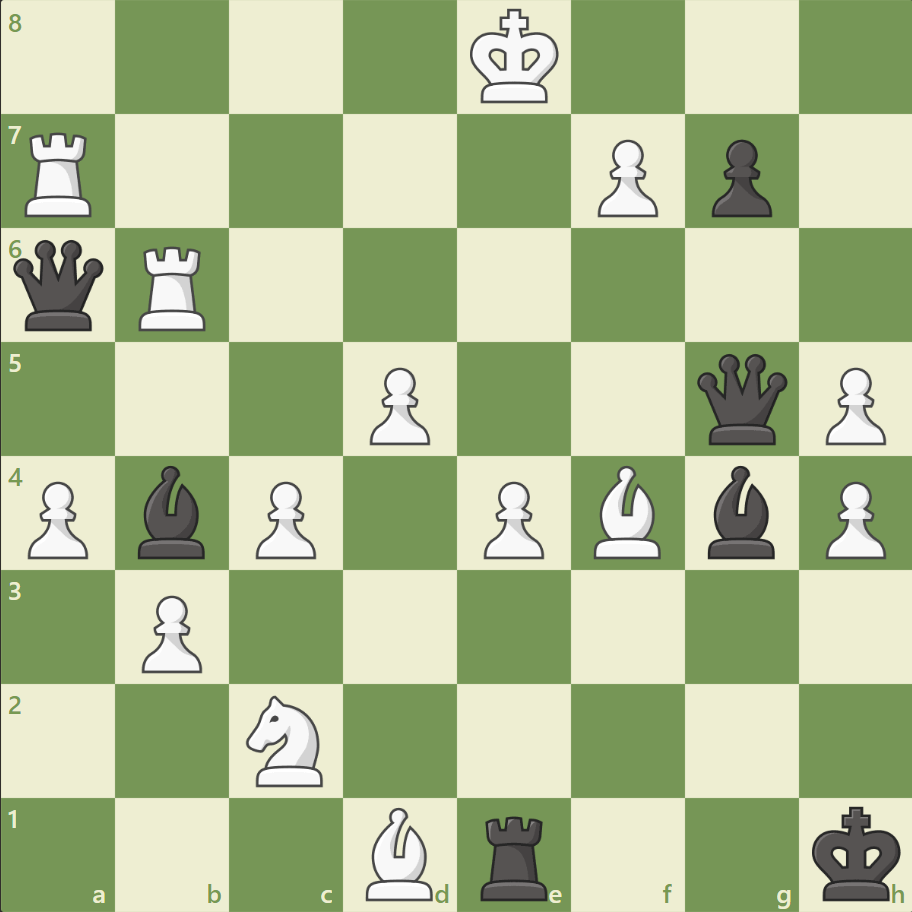B: (585, 460, 669, 563), (358, 801, 442, 904)
K: (465, 4, 565, 112)
N: (238, 688, 335, 791)
P: (20, 473, 95, 564), (247, 473, 322, 564), (474, 473, 549, 564), (133, 586, 208, 677), (588, 132, 662, 223), (361, 359, 435, 450), (815, 359, 889, 450), (815, 473, 889, 564)
R: (19, 125, 102, 222), (133, 239, 215, 336)
b: (131, 460, 215, 563), (698, 460, 782, 563)
k: (806, 798, 906, 906)
p: (701, 132, 776, 223)
q: (691, 349, 790, 449), (10, 236, 109, 335)
r: (473, 806, 556, 904)
